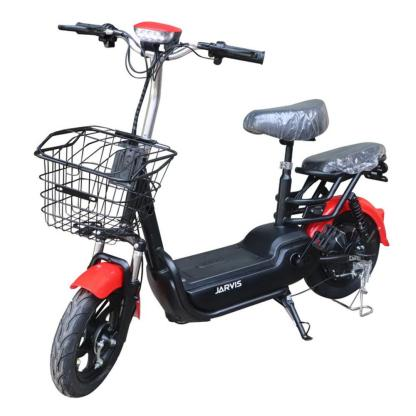Bike: (44, 15, 400, 401)
